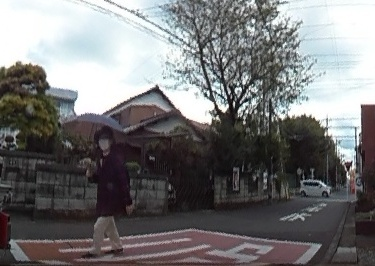person: (89, 125, 132, 256)
